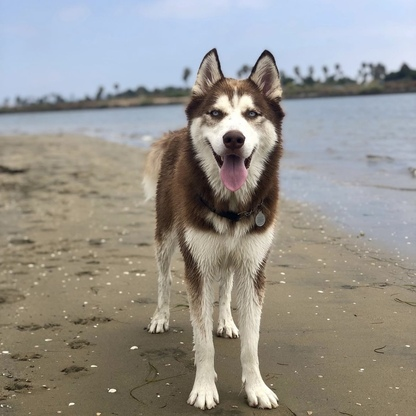husky: (138, 44, 290, 416)
